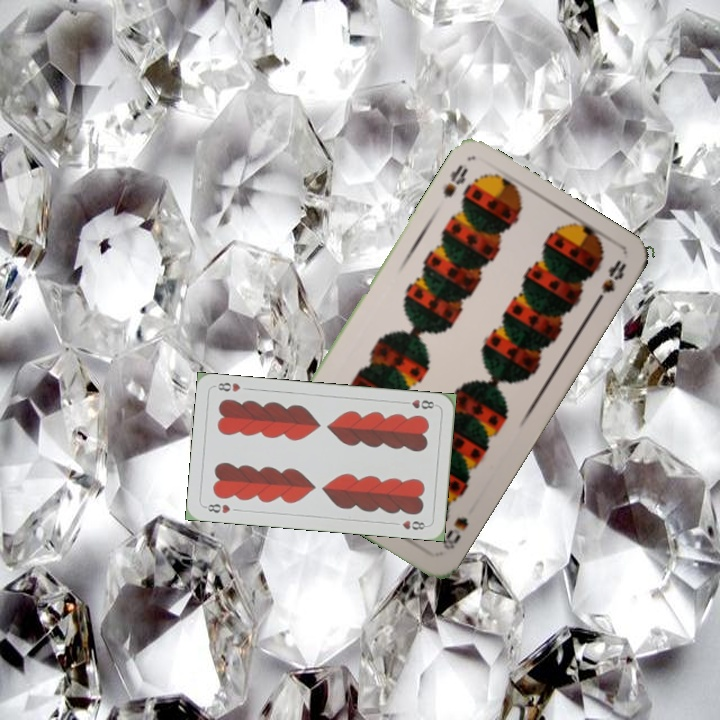H8: (399, 395, 439, 412), (201, 500, 233, 516)
S8: (438, 513, 472, 553), (439, 160, 471, 201)
